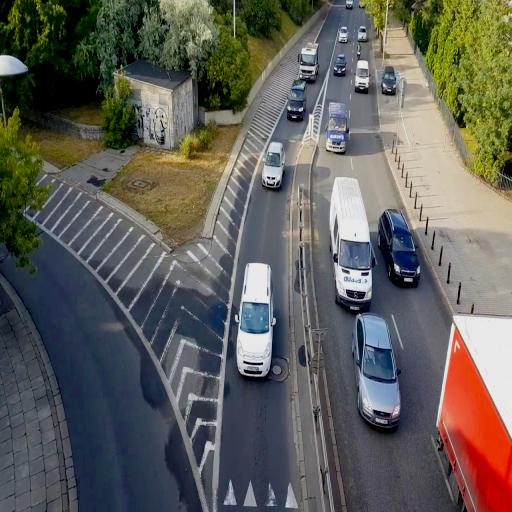vehicle: (435, 316, 512, 510), (329, 176, 375, 312), (351, 313, 402, 430), (236, 261, 273, 378), (378, 206, 420, 288), (326, 102, 350, 152), (262, 141, 284, 190), (299, 41, 319, 83), (287, 80, 307, 121), (380, 67, 399, 95), (354, 60, 370, 92), (333, 52, 347, 77), (337, 25, 349, 42)
